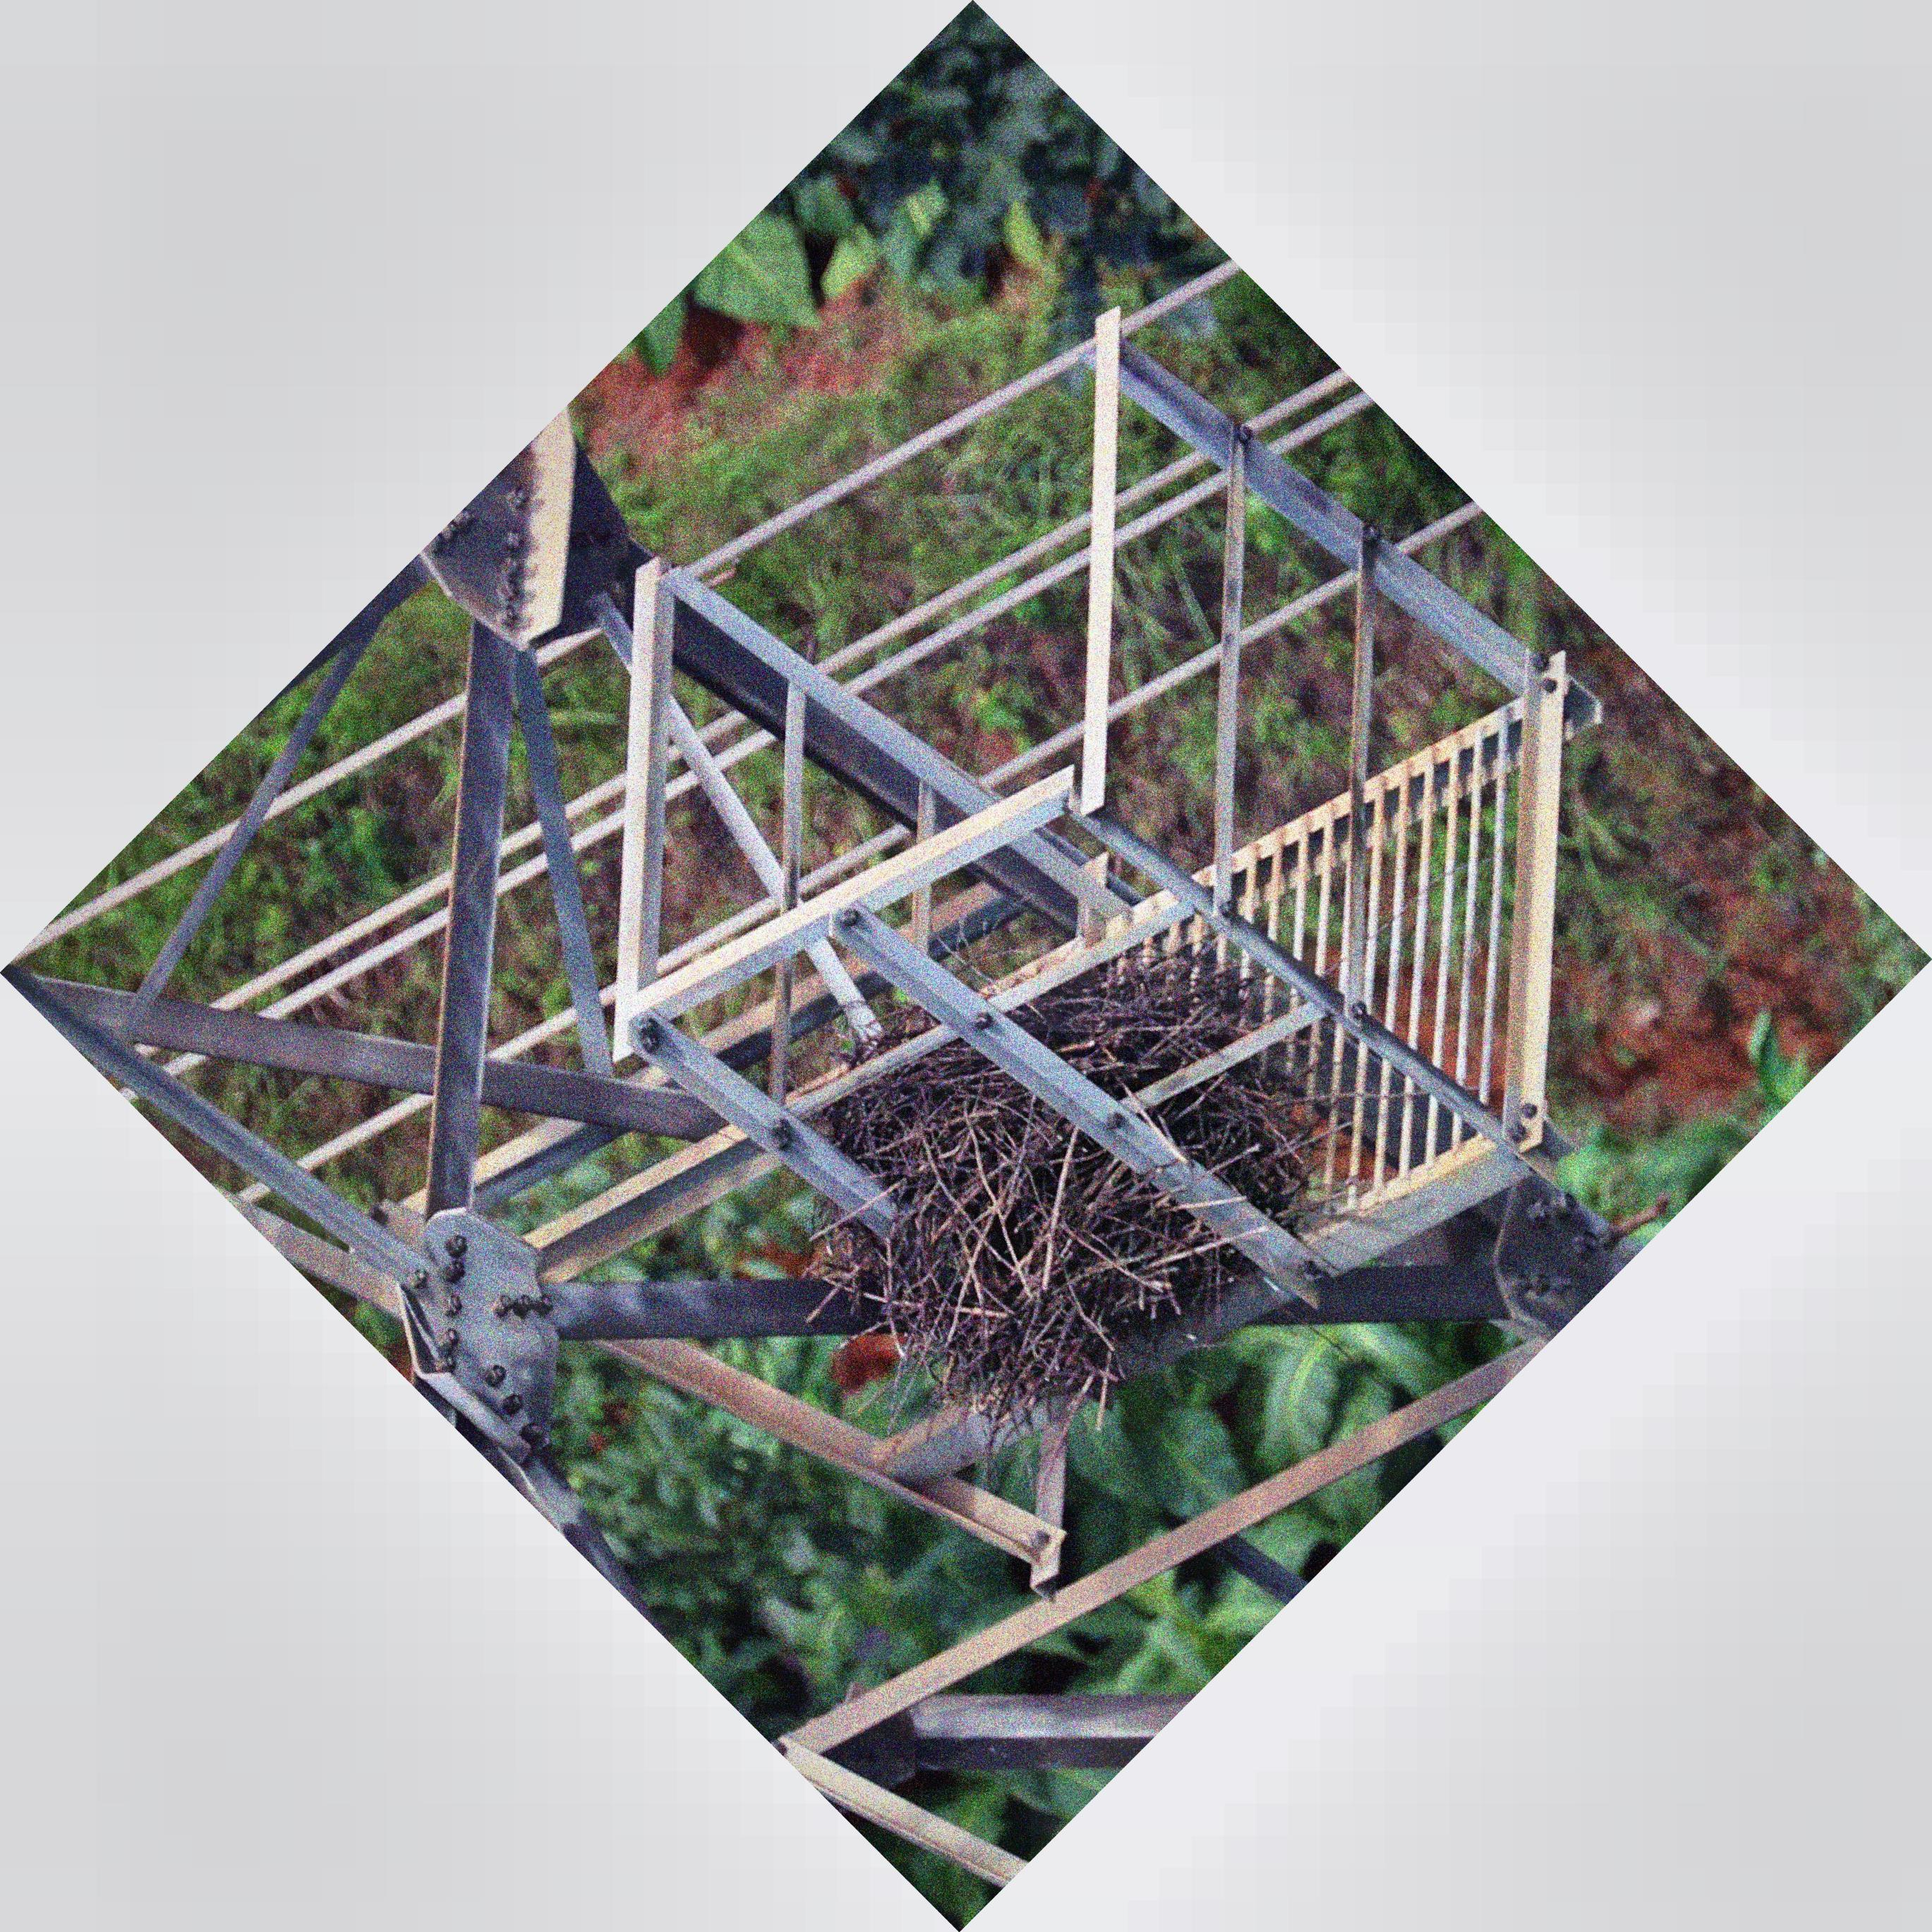niaowo: (771, 948, 1339, 1437)
